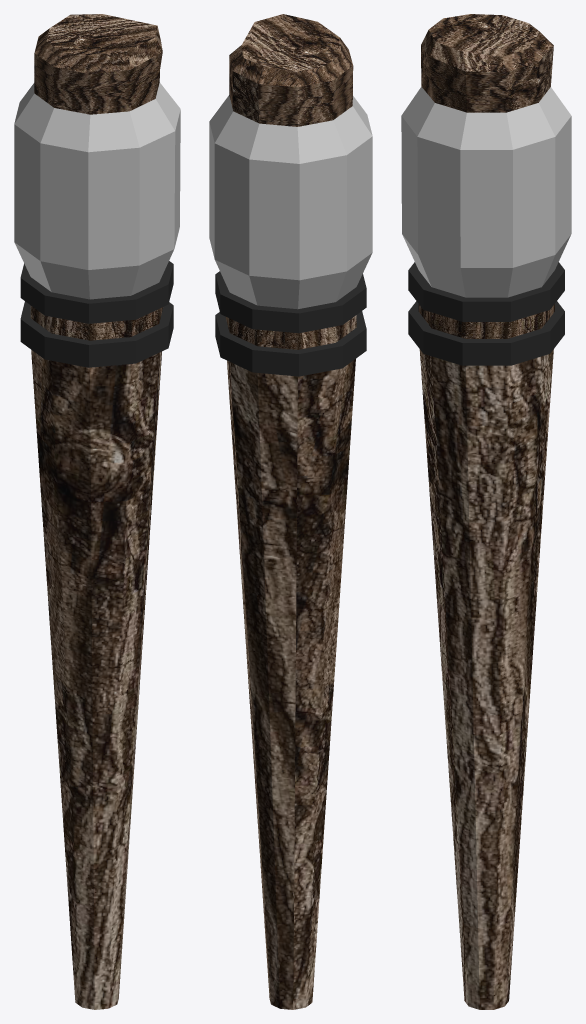
The model's file is Torch5.fbx.
3 views of the same model, side by side, from view 1: azimuth 30°, elevation 25°; view 2: azimuth 150°, elevation 25°; view 3: azimuth 270°, elevation 25° (orthographic).
Visible parts, largest first — view 1: Cylinder; view 2: Cylinder; view 3: Cylinder.
Boxes of the visible parts, box(x1,y1,x2,y2) form: Cylinder: box(14, 14, 180, 1009); Cylinder: box(209, 14, 372, 1009); Cylinder: box(401, 14, 571, 1009).
Size of the model in its own units: 238 by 1580 by 250.
